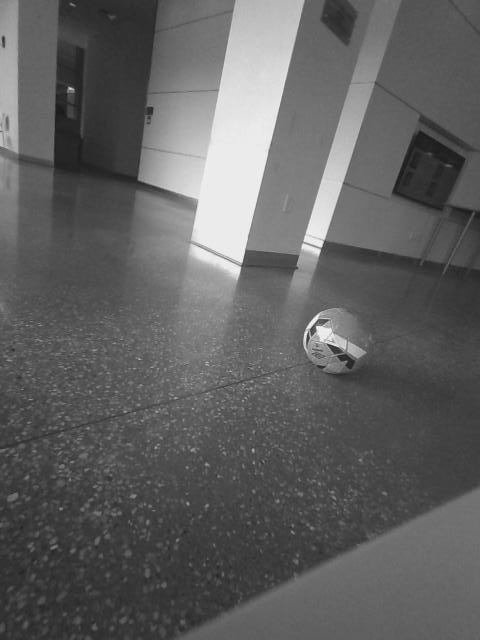ball: (164, 294, 258, 383)
